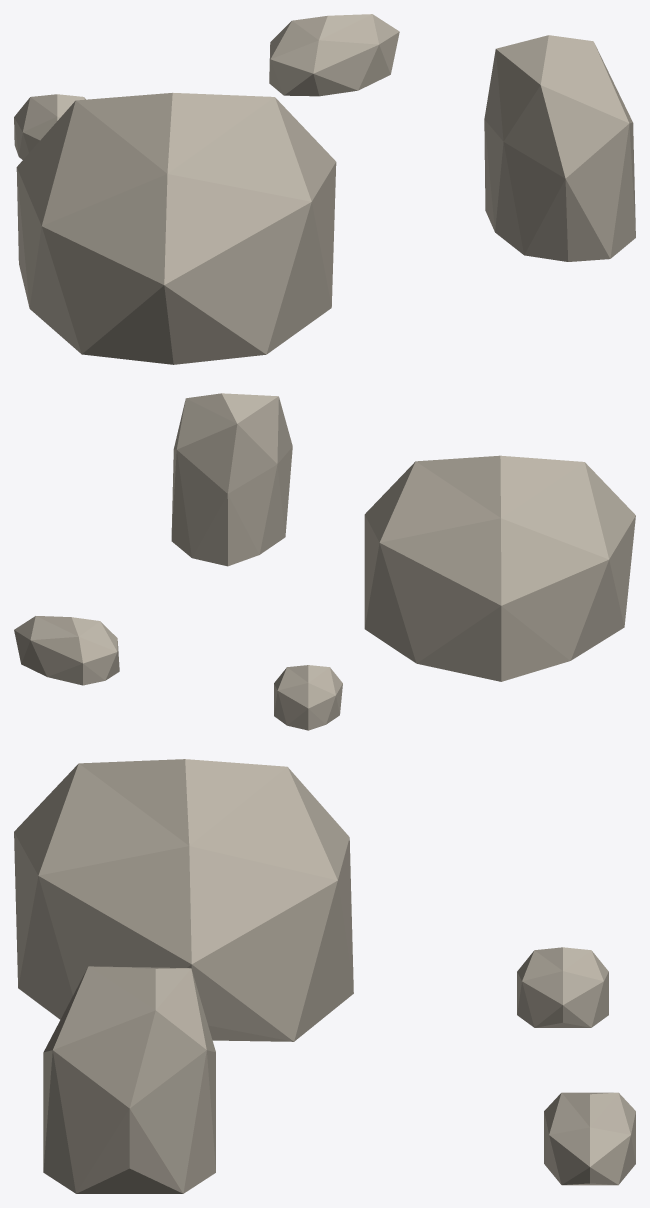
Rendered from SM_Stone_01.fbx.
3 views of the same model, one above another, from view 1: azimuth 30°, elevation 25°; view 2: azimuth 150°, elevation 25°; view 3: azimuth 270°, elevation 25° (orthographic). The views are drawn at different scales.
Parts seen in each view (by area): view 1: SM_Stone_01; view 2: SM_Stone_01; view 3: SM_Stone_01.
Boxes of the visible parts, <box> form: SM_Stone_01: <box>14,14,635,364</box>; SM_Stone_01: <box>14,393,635,730</box>; SM_Stone_01: <box>14,759,635,1193</box>.
Size of the model in its own units: 178 by 62.32 by 159.
Materials: 1 (1 with a texture image).
